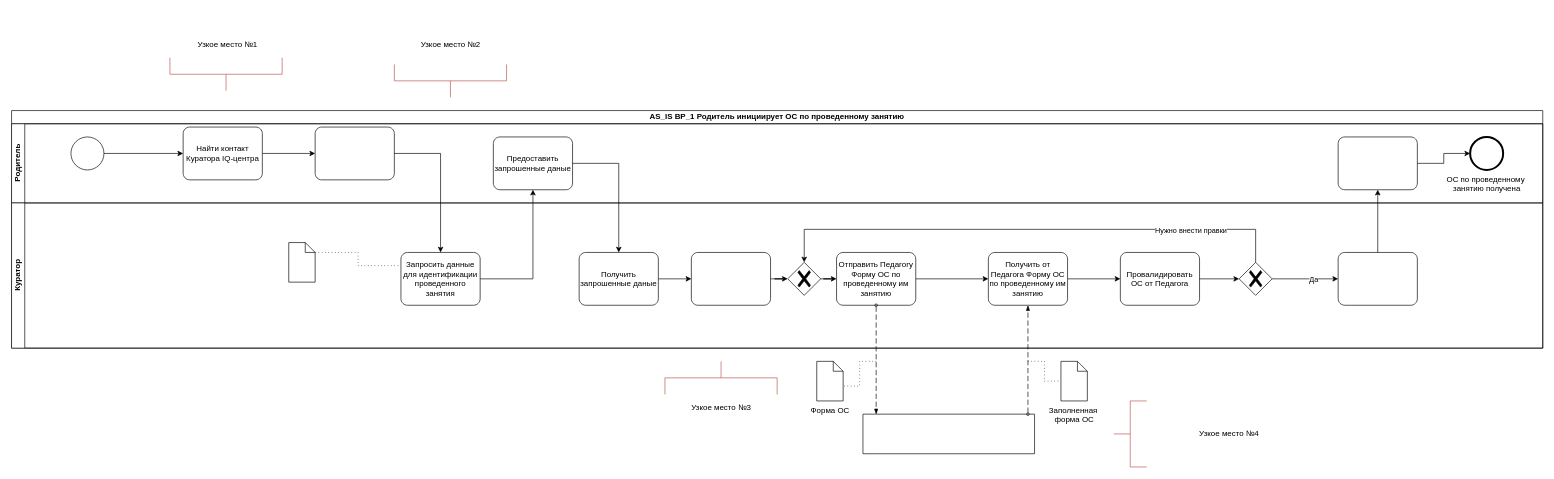
The diagram is 1554 pixels wide and 479 high, and some of its shapes have lost their labels. The centre of each missing label's shape, as x and y in pixels:
AS_IS BP_2 Педагог заполняет форму ОС: point (948, 433)
В ОС все хорошо?: point (1255, 278)
Написать сообщение Куратору о желании получить ОС по занятию: point (354, 153)
Отправить Родителю ОС от Педагога: point (1377, 278)
Получить ОС от Педагога: point (1377, 163)
Сформировать форму для ОС по проведенному занятию с учетом полученных данных: point (731, 278)
ФИО ребенка, ФИО педагога, дата занятия: point (301, 262)
Хочет получить ОС по проведенному занятию: point (87, 153)
